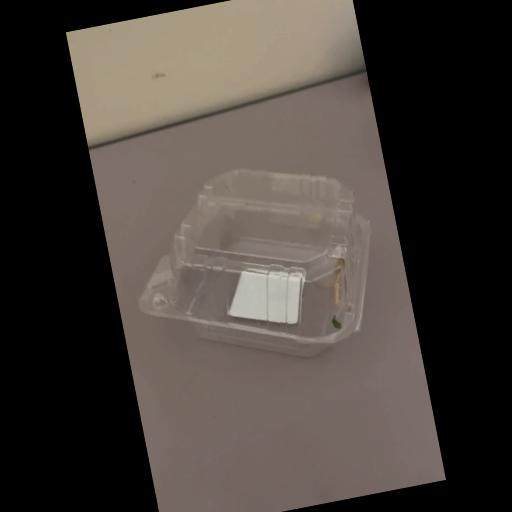small_plastic_container: (118, 146, 394, 392)
